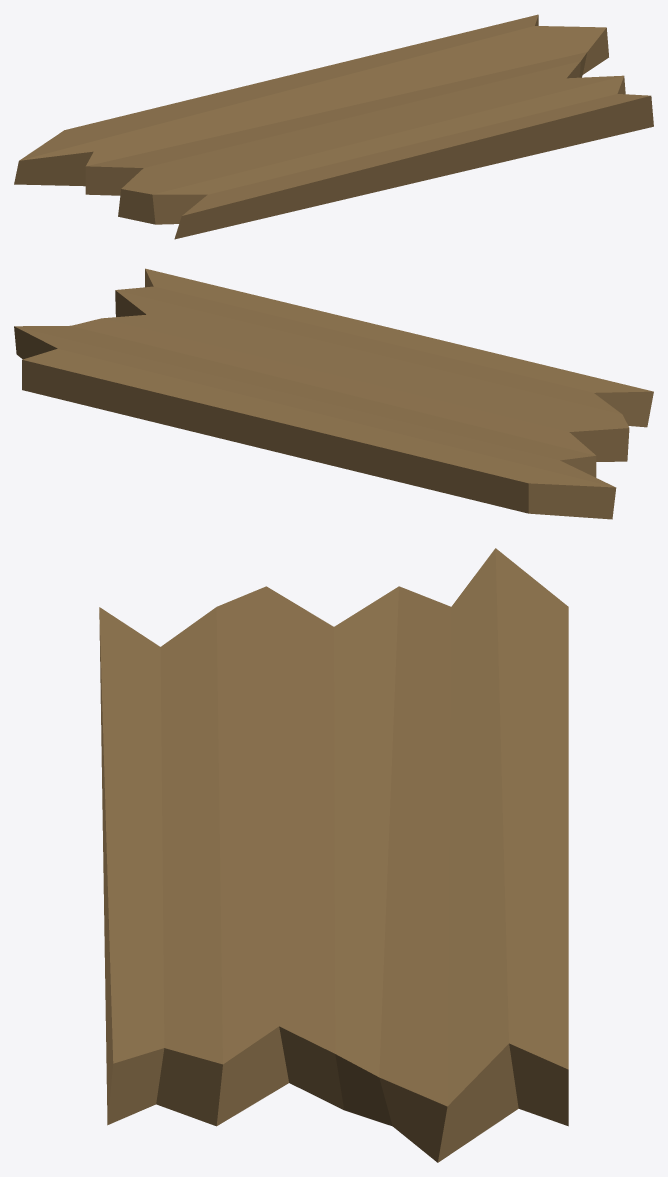
Rendered from brokenplank3.fbx.
3 renders of one model, top to bottom at view 1: azimuth 30°, elevation 25°; view 2: azimuth 150°, elevation 25°; view 3: azimuth 270°, elevation 25°, orthographic. The views are drawn at different scales.
Visible parts, largest first — view 1: Cube; view 2: Cube; view 3: Cube.
Part boxes in pixels (bbox=[...]): Cube: bbox=[14, 14, 653, 239]; Cube: bbox=[14, 268, 653, 519]; Cube: bbox=[99, 548, 568, 1162].
Size of the model in its own units: 425 by 27.93 by 150.
